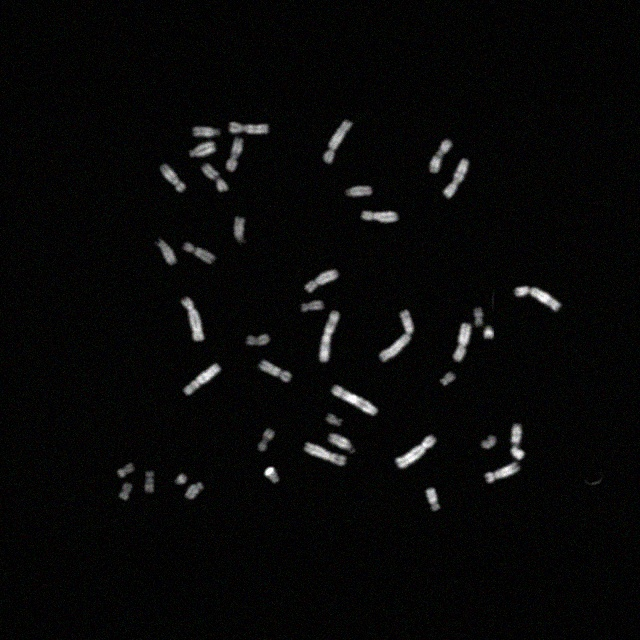chromosome: (380, 308, 414, 362), (330, 386, 380, 416), (396, 434, 438, 468), (323, 120, 353, 164), (514, 286, 562, 312), (184, 363, 222, 395), (443, 158, 469, 198), (319, 310, 339, 362), (182, 296, 204, 342), (304, 442, 346, 466), (305, 268, 339, 292), (428, 139, 452, 173), (484, 461, 520, 483), (200, 165, 228, 193), (452, 322, 472, 361), (260, 358, 292, 382), (159, 164, 185, 192), (509, 422, 527, 460), (183, 242, 214, 264), (328, 432, 357, 454), (227, 137, 245, 171), (228, 121, 270, 135), (155, 238, 177, 264), (234, 216, 251, 246), (188, 140, 216, 158), (257, 428, 275, 454), (360, 211, 398, 223), (245, 332, 270, 348), (344, 184, 372, 198), (192, 125, 220, 138), (184, 482, 203, 501), (298, 300, 326, 312), (426, 489, 440, 511), (117, 462, 136, 478), (265, 466, 279, 484), (439, 372, 456, 386), (118, 484, 132, 501), (144, 471, 154, 494), (482, 434, 496, 450), (473, 308, 485, 326), (325, 414, 343, 426), (483, 326, 495, 340), (174, 474, 186, 484)
